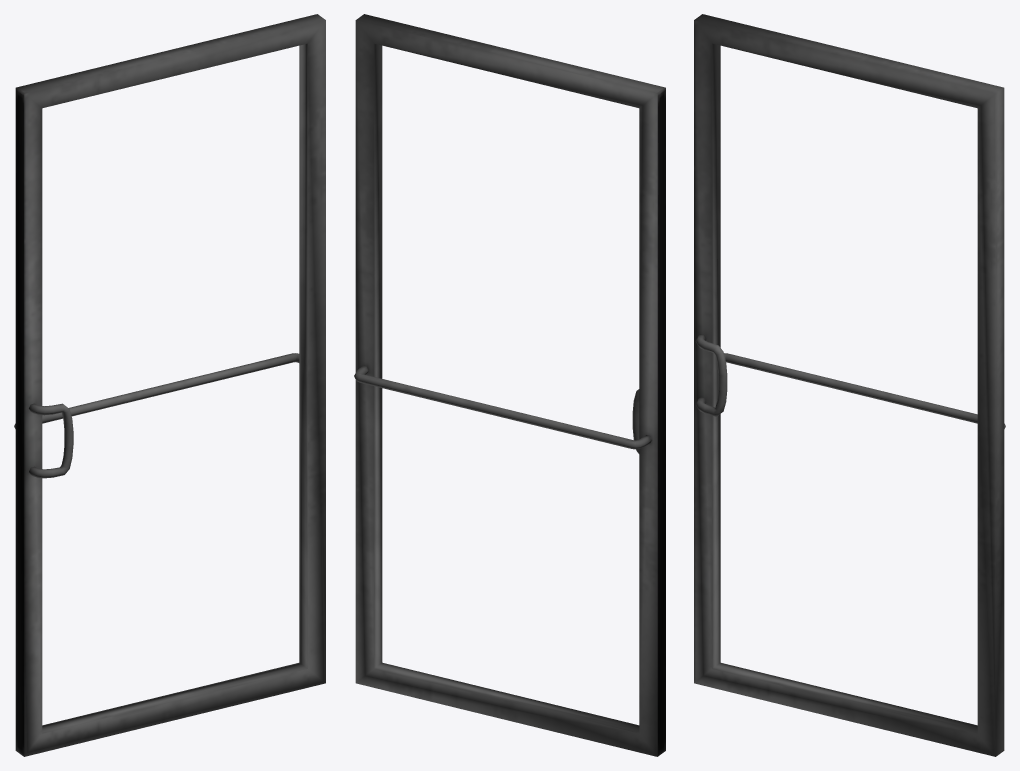
Rendered from Door_B.glb.
The picture shows the model from 3 angles, left to right: view 1: azimuth 30°, elevation 25°; view 2: azimuth 150°, elevation 25°; view 3: azimuth 330°, elevation 25°; orthographic projection.
Visible parts, largest first — view 1: Door_B.001; view 2: Door_B.001; view 3: Door_B.001.
Part boxes in pixels (x1,y1,x2,y2): Door_B.001: [14, 14, 325, 756]; Door_B.001: [354, 14, 665, 756]; Door_B.001: [694, 14, 1005, 756].
Size of the model in its own units: 1 by 2.1 by 0.176.
Materials: 2 (1 with a texture image).
